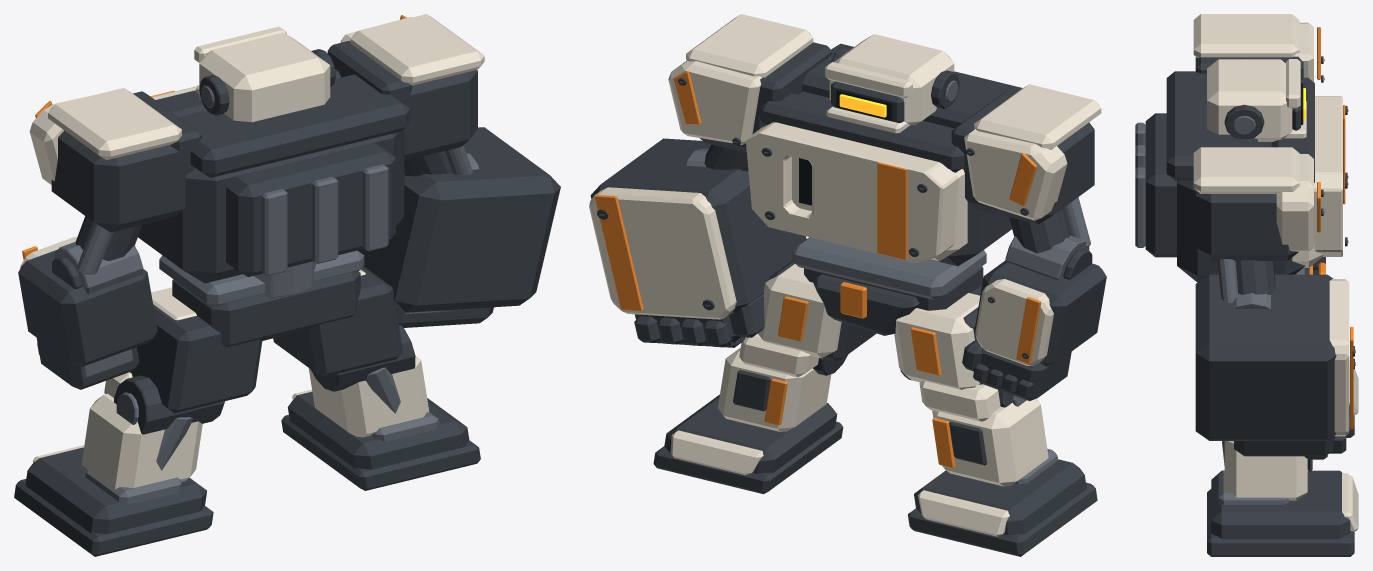
File: Ariete.fbx
The picture shows the model from 3 angles, left to right: view 1: azimuth 30°, elevation 25°; view 2: azimuth 150°, elevation 25°; view 3: azimuth 270°, elevation 25°; orthographic projection. The views are drawn at different scales.
Visible parts, largest first — view 1: Forearm_R_Gauntlet frame, Torso_Rear block, Torso_Collar back, Forearm_L_Gauntlet frame, UpperArm_L_Shoulder steel, Thigh_L_Thigh backing, Head_Helmet, Torso_Press frame, Pelvis_Frame, Shin_L_Boot, Thigh_R_Thigh backing, Shin_L_Shin armor (+32 smaller); view 2: Torso_Chest press armor, Forearm_R_Gauntlet shell, Forearm_R_Gauntlet frame, UpperArm_L_Shoulder shell, Pelvis_Waist, Shin_L_Boot, Shin_L_Shin armor, Torso_Collar front, Forearm_L_Gauntlet frame, UpperArm_R_Shoulder shell, UpperArm_L_Shoulder top, UpperArm_R_Shoulder top (+44 smaller); view 3: Forearm_R_Gauntlet frame, Shin_R_Boot, UpperArm_R_Shoulder steel, Head_Helmet, UpperArm_R_Shoulder top, Torso_Collar back, UpperArm_L_Shoulder top, Torso_Chest press armor, Torso_Rear block, Shin_R_Shin armor, Shin_R_Sole, Forearm_R_Gauntlet shell (+19 smaller).
Part boxes in pixels (<box>): Forearm_R_Gauntlet frame: <box>358,127,560,312</box>; Torso_Rear block: <box>226,142,395,276</box>; Torso_Collar back: <box>179,74,410,177</box>; Forearm_L_Gauntlet frame: <box>18,249,157,366</box>; UpperArm_L_Shoulder steel: <box>51,130,185,232</box>; Thigh_L_Thigh backing: <box>130,304,262,413</box>; Head_Helmet: <box>199,32,330,122</box>; Torso_Press frame: <box>138,130,404,283</box>; Pelvis_Frame: <box>172,271,360,347</box>; Shin_L_Boot: <box>25,447,206,533</box>; Thigh_R_Thigh backing: <box>273,266,402,376</box>; Shin_L_Shin armor: <box>81,393,202,488</box>; Torso_Chest press armor: <box>746,122,958,262</box>; Forearm_R_Gauntlet shell: <box>589,187,736,319</box>; Forearm_R_Gauntlet frame: <box>590,138,806,313</box>; UpperArm_L_Shoulder shell: <box>964,129,1067,220</box>; Pelvis_Waist: <box>791,237,986,299</box>; Shin_L_Boot: <box>914,459,1086,535</box>; Shin_L_Shin armor: <box>932,398,1048,486</box>; Torso_Collar front: <box>760,93,964,172</box>; Forearm_L_Gauntlet frame: <box>974,261,1106,366</box>; UpperArm_R_Shoulder shell: <box>668,60,761,144</box>; UpperArm_L_Shoulder top: <box>974,84,1101,149</box>; UpperArm_R_Shoulder top: <box>686,14,813,77</box>; Forearm_R_Gauntlet frame: <box>1195,274,1336,440</box>; Shin_R_Boot: <box>1211,470,1350,539</box>; UpperArm_R_Shoulder steel: <box>1195,190,1298,260</box>; Head_Helmet: <box>1207,59,1292,141</box>; UpperArm_R_Shoulder top: <box>1193,147,1299,193</box>; Torso_Collar back: <box>1166,71,1257,180</box>; UpperArm_L_Shoulder top: <box>1193,14,1299,57</box>; Torso_Chest press armor: <box>1314,96,1342,256</box>; Torso_Rear block: <box>1145,113,1176,257</box>; Shin_R_Shin armor: <box>1224,441,1307,500</box>; Shin_R_Sole: <box>1207,489,1354,556</box>; Forearm_R_Gauntlet shell: <box>1329,279,1349,436</box>.
Size of the model in its own units: 245 by 211 by 107.
